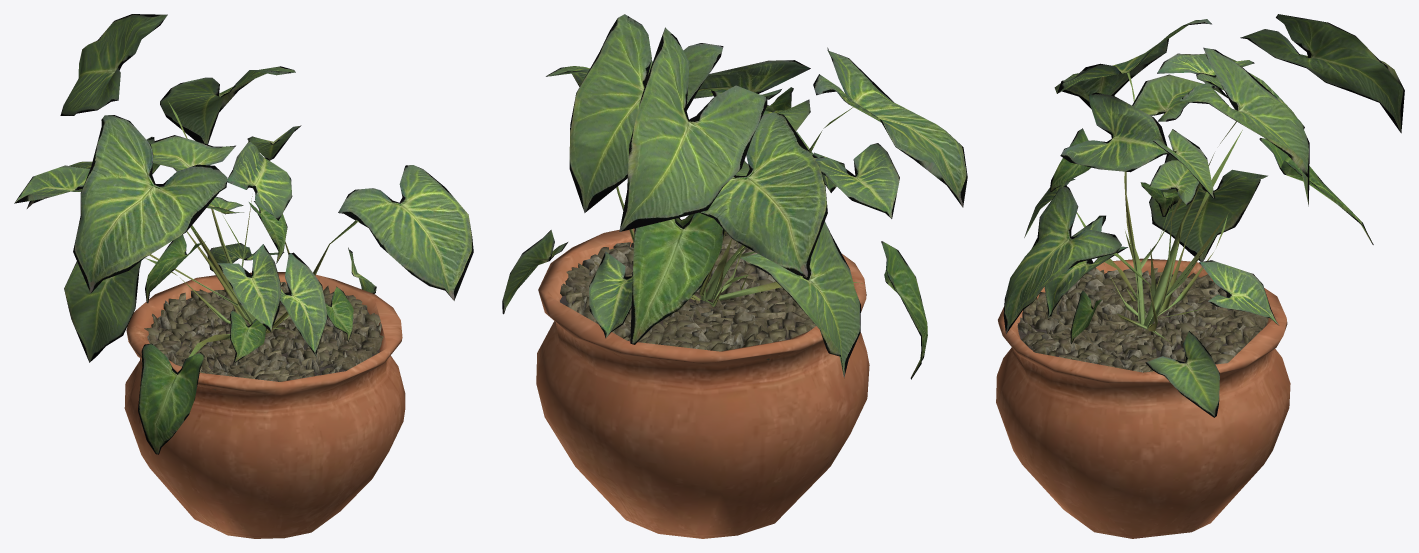
File: plant_big.glb
3 renders of one model, left to right at view 1: azimuth 30°, elevation 25°; view 2: azimuth 150°, elevation 25°; view 3: azimuth 270°, elevation 25°, orthographic. The views are drawn at different scales.
Visible parts, largest first — view 1: potted_plant_02_leaves, potted_plant_02_pot, potted_plant_02_dirt; view 2: potted_plant_02_leaves, potted_plant_02_pot, potted_plant_02_dirt; view 3: potted_plant_02_leaves, potted_plant_02_pot, potted_plant_02_dirt.
Boxes of the visible parts, left/top/right/bottom form: potted_plant_02_leaves: left=14, top=14, right=473, bottom=454; potted_plant_02_pot: left=124, top=272, right=405, bottom=538; potted_plant_02_dirt: left=144, top=282, right=383, bottom=390; potted_plant_02_leaves: left=502, top=14, right=967, bottom=379; potted_plant_02_pot: left=536, top=219, right=869, bottom=538; potted_plant_02_dirt: left=560, top=232, right=815, bottom=360; potted_plant_02_leaves: left=1003, top=14, right=1404, bottom=417; potted_plant_02_pot: left=996, top=258, right=1290, bottom=538; potted_plant_02_dirt: left=1017, top=267, right=1268, bottom=372.
Size of the model in its own units: 0.7012 by 0.8395 by 0.6537.
Materials: 2 (2 with a texture image).
